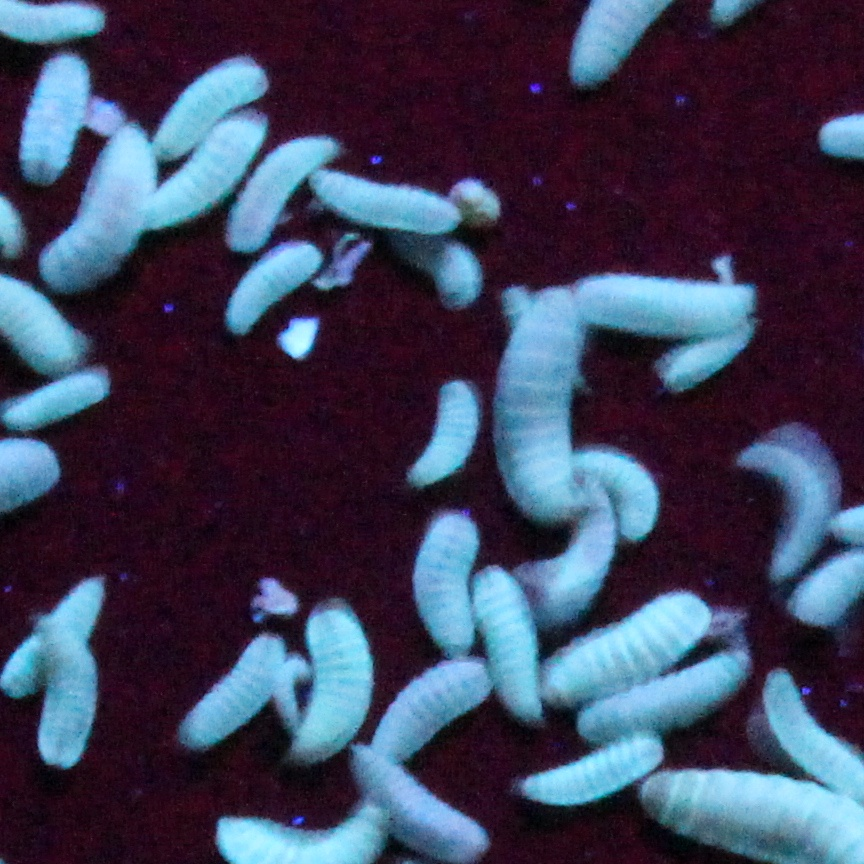larve: (502, 288, 586, 520), (346, 747, 506, 858), (723, 430, 834, 576), (580, 656, 760, 741), (540, 607, 697, 698), (163, 633, 280, 744), (0, 581, 114, 690), (138, 52, 270, 140), (58, 132, 122, 312), (23, 627, 97, 781), (154, 136, 266, 232), (294, 613, 372, 750), (406, 516, 480, 650), (574, 280, 750, 336), (534, 493, 612, 613), (322, 172, 454, 240), (10, 68, 86, 176), (526, 747, 657, 796), (414, 376, 474, 480), (254, 236, 314, 336), (658, 340, 754, 400), (592, 458, 666, 530)
